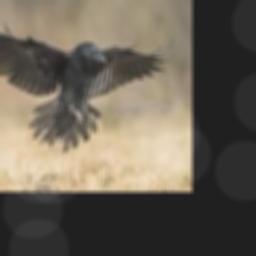Crow: (0, 11, 175, 150)
